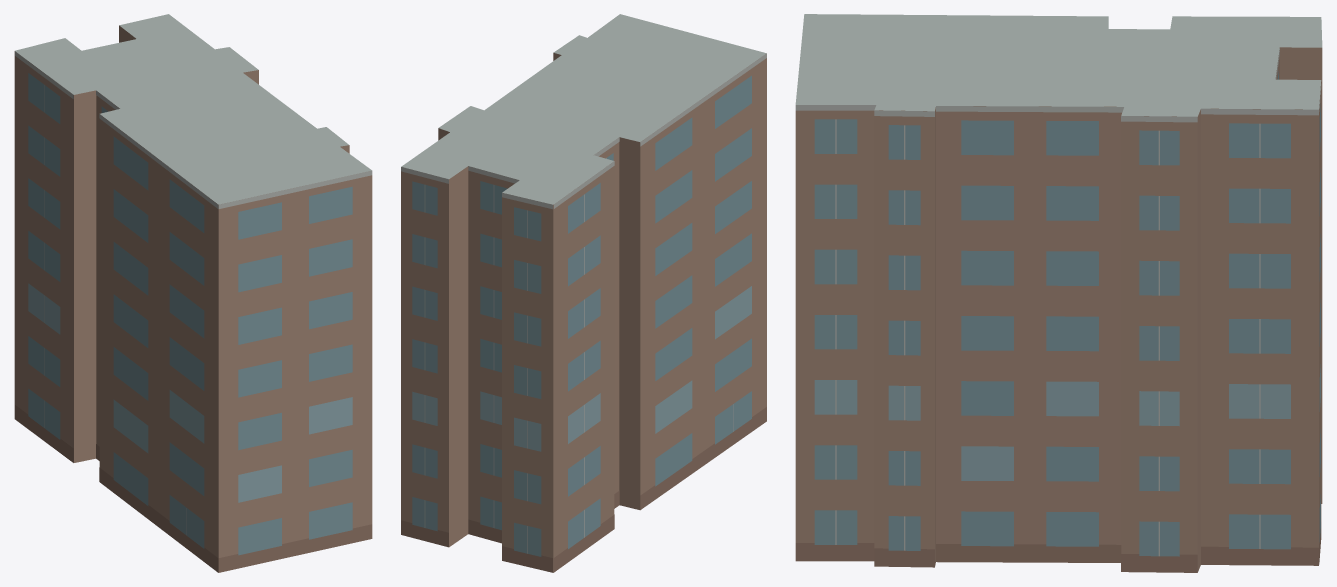
Rendered from survey-upis-32960586.glb.
3 renders of one model, left to right at view 1: azimuth 30°, elevation 25°; view 2: azimuth 150°, elevation 25°; view 3: azimuth 270°, elevation 25°, orthographic. The views are drawn at different scales.
Visible parts, largest first — view 1: survey-upis-32960586.tmp; view 2: survey-upis-32960586.tmp; view 3: survey-upis-32960586.tmp.
Boxes of the visible parts, x1=… form: survey-upis-32960586.tmp: x1=14, y1=14, x2=372, y2=572; survey-upis-32960586.tmp: x1=401, y1=14, x2=766, y2=572; survey-upis-32960586.tmp: x1=795, y1=14, x2=1322, y2=572.
Size of the model in its own units: 9.38 by 19.4 by 20.32.
